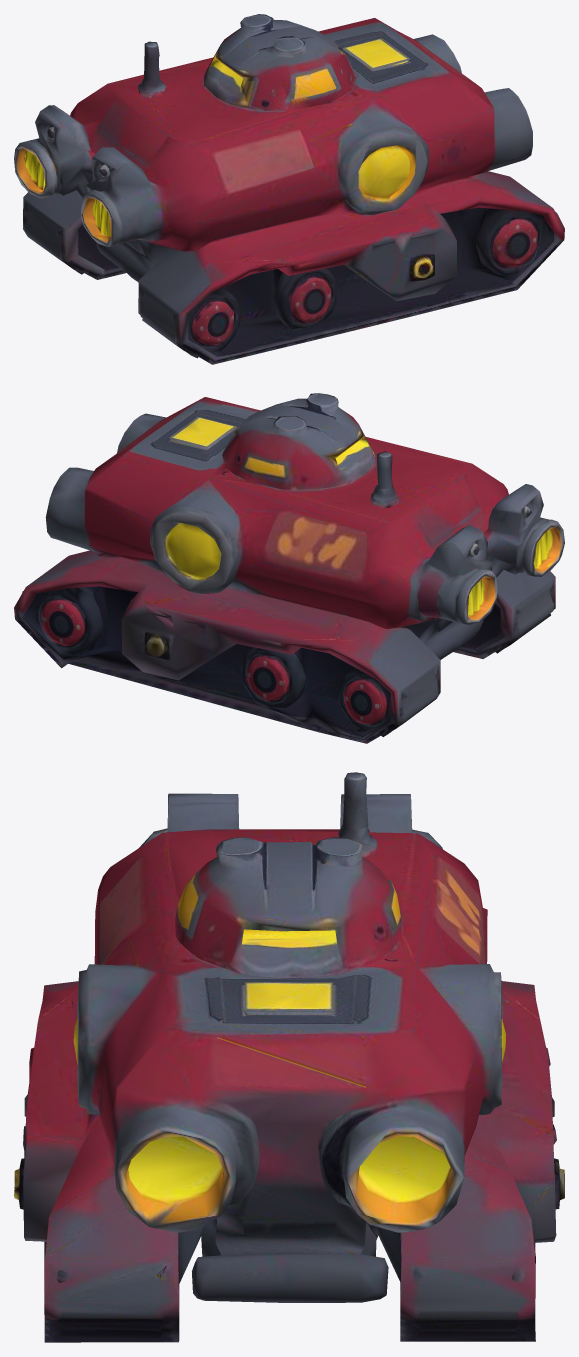
File: alien-c.glb
3 renders of one model, top to bottom at view 1: azimuth 30°, elevation 25°; view 2: azimuth 150°, elevation 25°; view 3: azimuth 270°, elevation 25°, orthographic. The views are drawn at different scales.
Size of the model in its own units: 1.9 by 1.03 by 1.38.
1 material, 1 textured.
